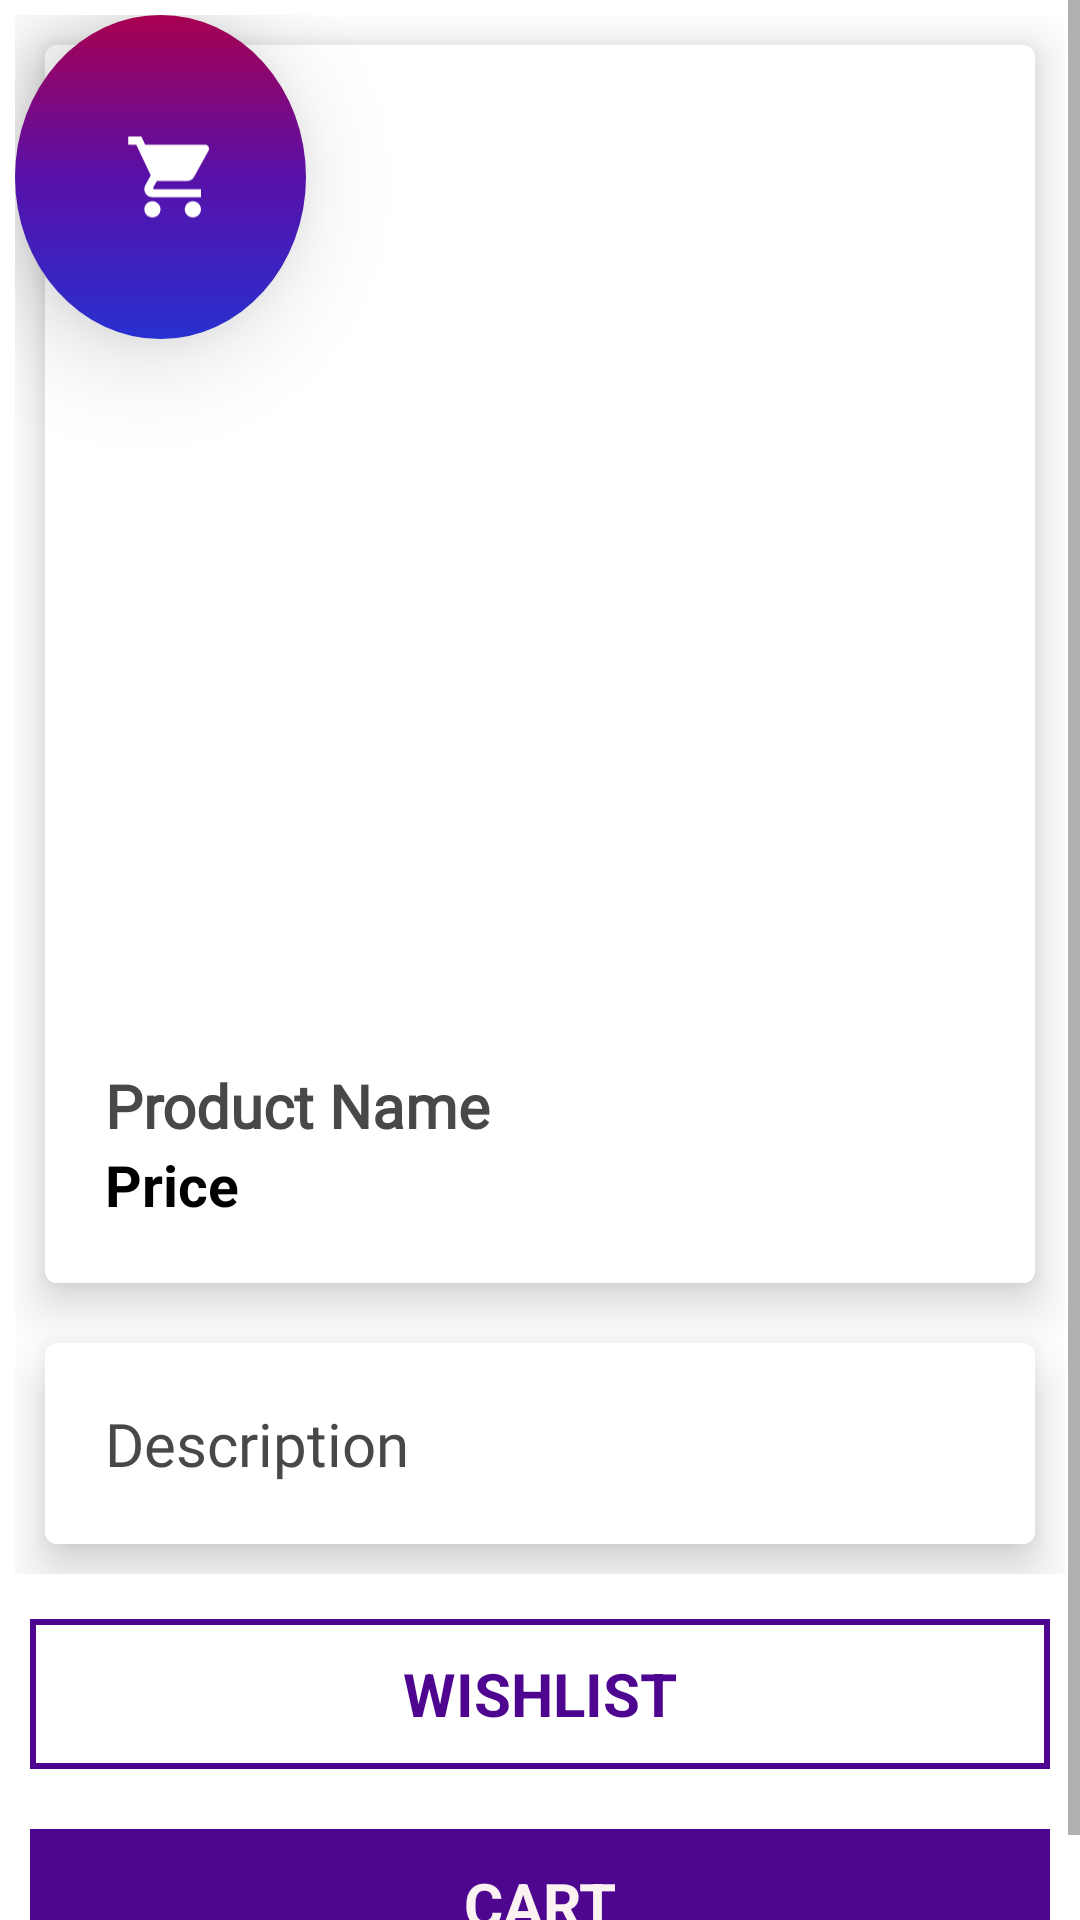

Icons on this 1080px×1920px Android screen, each with the point to tap as point (x, y):
Cart: point (160, 177)
